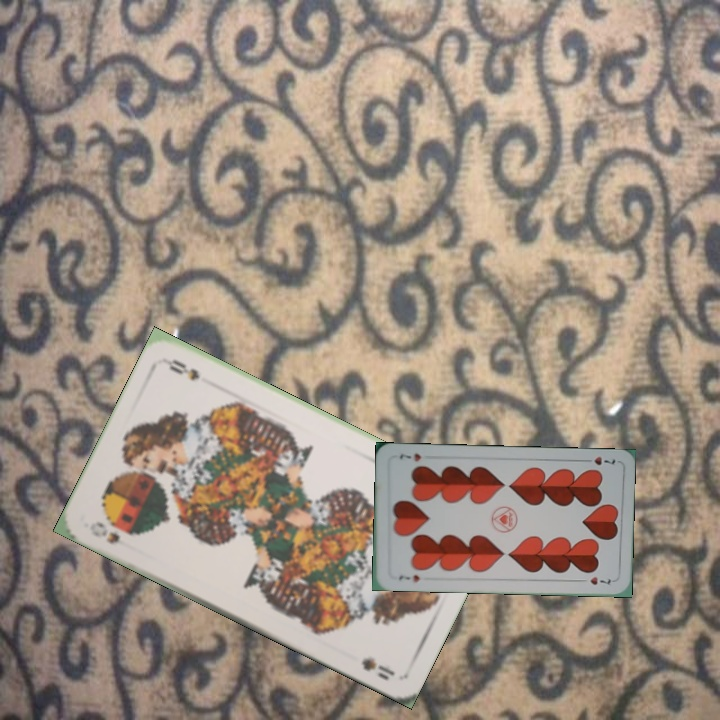H7: (579, 453, 618, 468), (395, 570, 422, 584)
SO: (85, 517, 138, 547)
